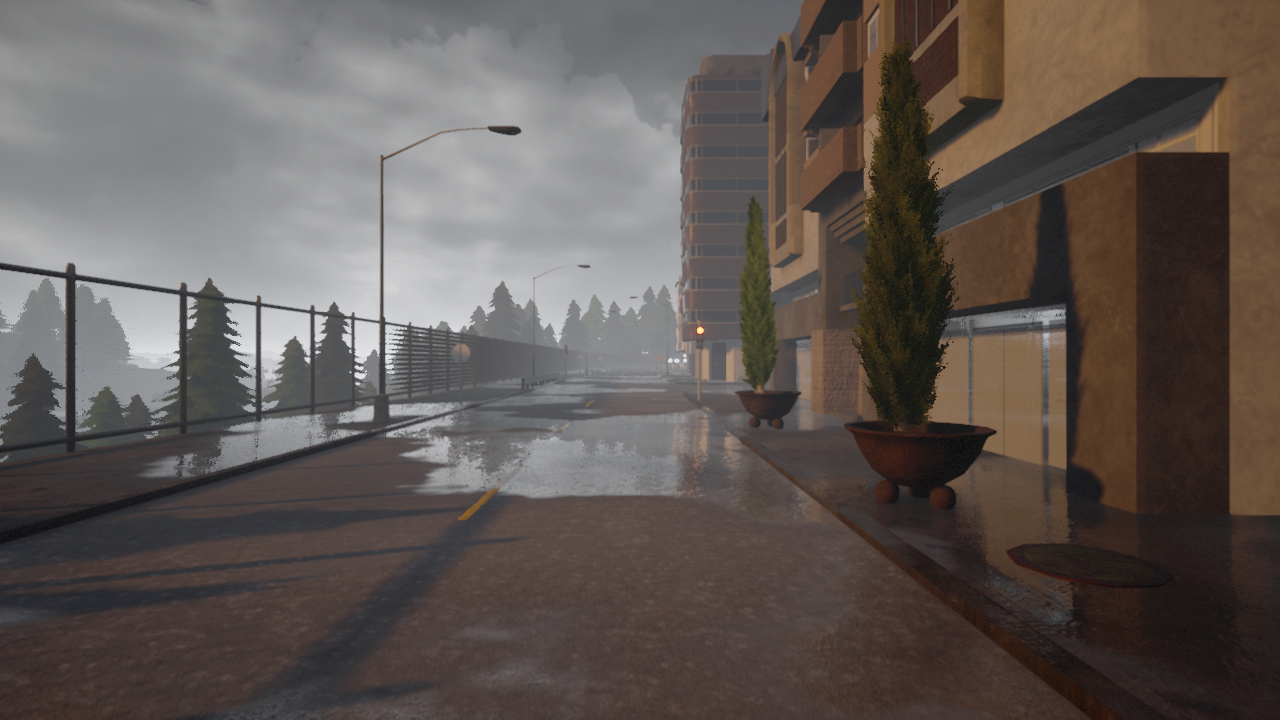red: (696, 325, 705, 349)
